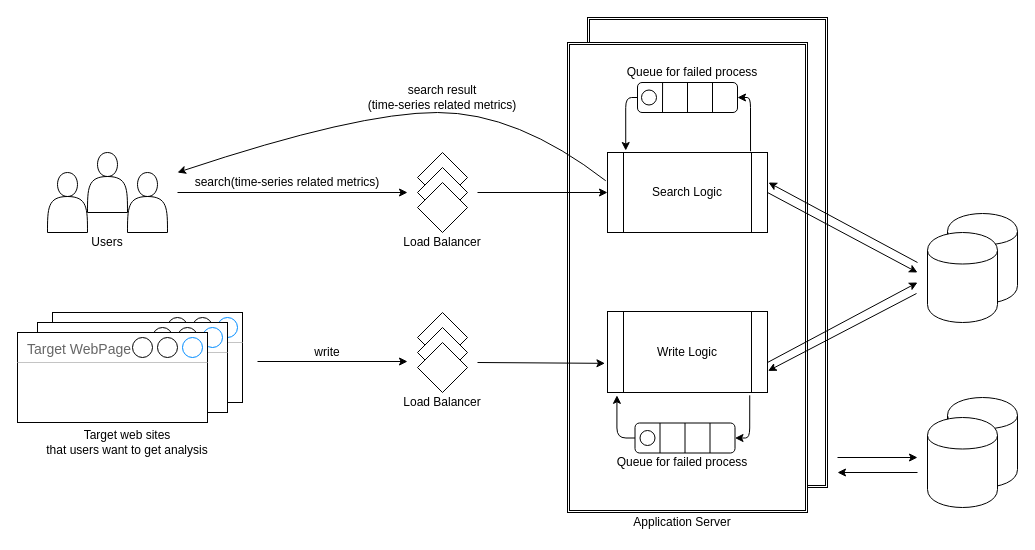
This 1035x550 diagram has some shape labels left out. Here are the shapes that lost their labels. From the top down, the centre of each, then its label:
point 962,277: Database
point 962,462: SSD Storage
